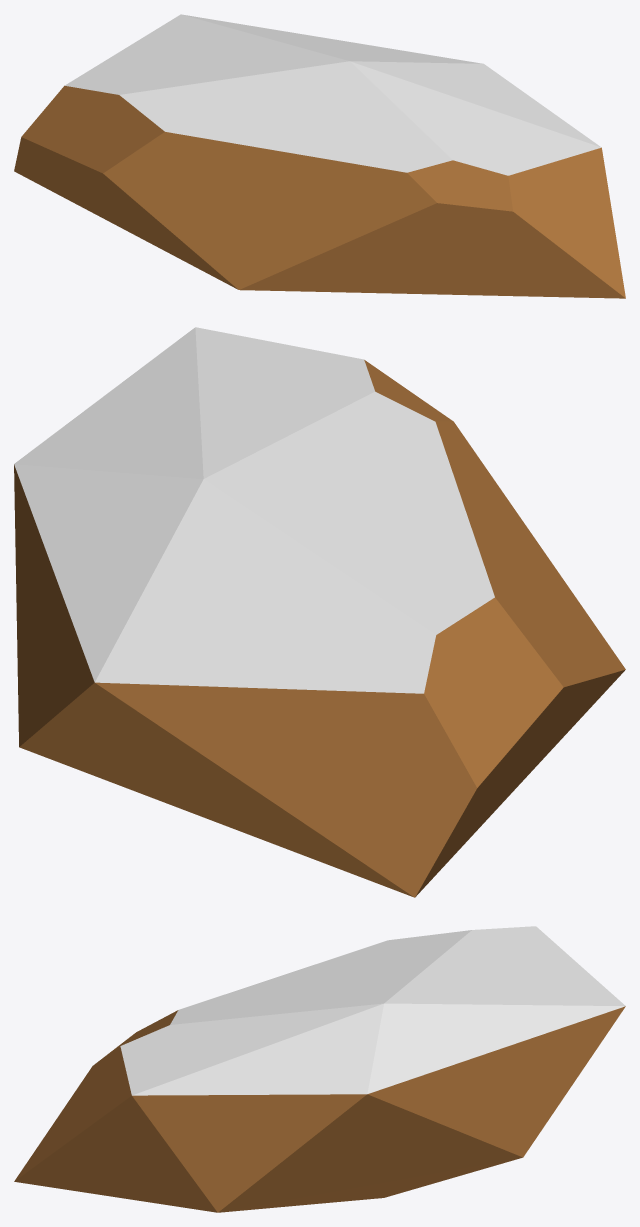
Rendered from Rock Large Snow.fbx.
3 renders of one model, top to bottom at view 1: azimuth 30°, elevation 25°; view 2: azimuth 150°, elevation 25°; view 3: azimuth 270°, elevation 25°, orthographic. The views are drawn at different scales.
Visible parts, largest first — view 1: Snow Stone Large; view 2: Snow Stone Large; view 3: Snow Stone Large.
Part boxes in pixels (left/top/right/bottom): Snow Stone Large: left=14, top=14, right=625, bottom=298; Snow Stone Large: left=14, top=327, right=625, bottom=897; Snow Stone Large: left=14, top=926, right=625, bottom=1212.
Size of the model in its own units: 0.738 by 0.33 by 0.9414.
